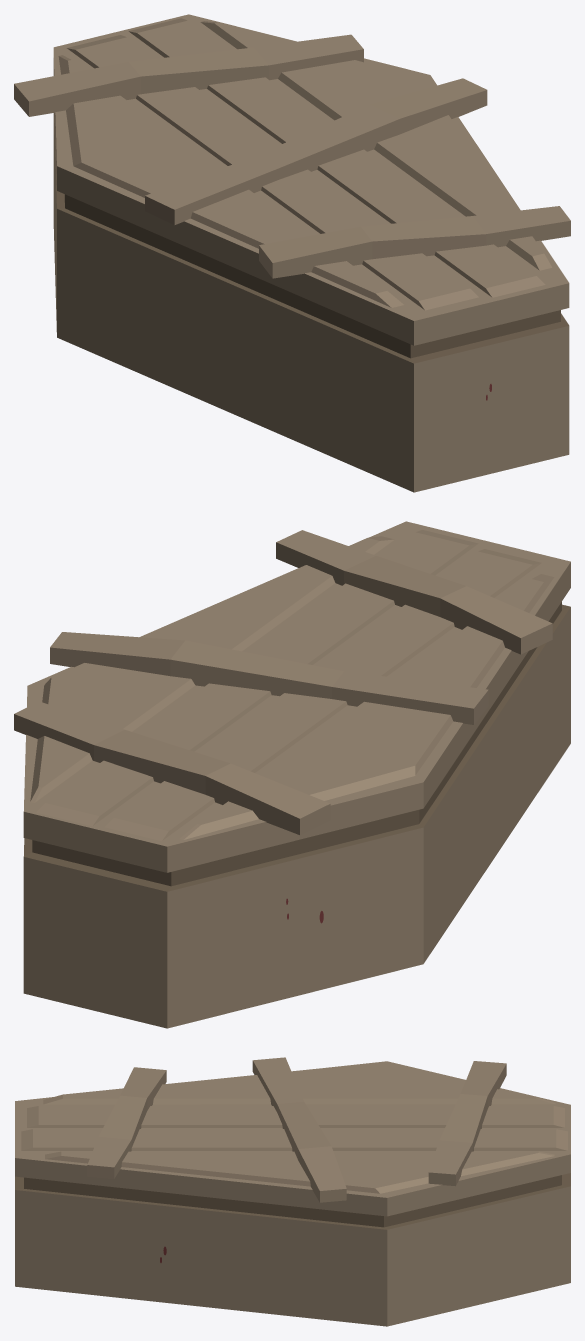
Rendered from Coffin Harvested.fbx.
The picture shows the model from 3 angles, top to bottom: view 1: azimuth 30°, elevation 25°; view 2: azimuth 150°, elevation 25°; view 3: azimuth 270°, elevation 25°; orthographic projection. The views are drawn at different scales.
Visible parts, largest first — view 1: pPlane6; view 2: pPlane6; view 3: pPlane6.
Boxes of the visible parts, <box> form: pPlane6: <box>14,14,570,492</box>; pPlane6: <box>14,521,570,1028</box>; pPlane6: <box>15,1057,570,1326</box>.
Size of the model in its own units: 1.53 by 0.7302 by 2.55.
